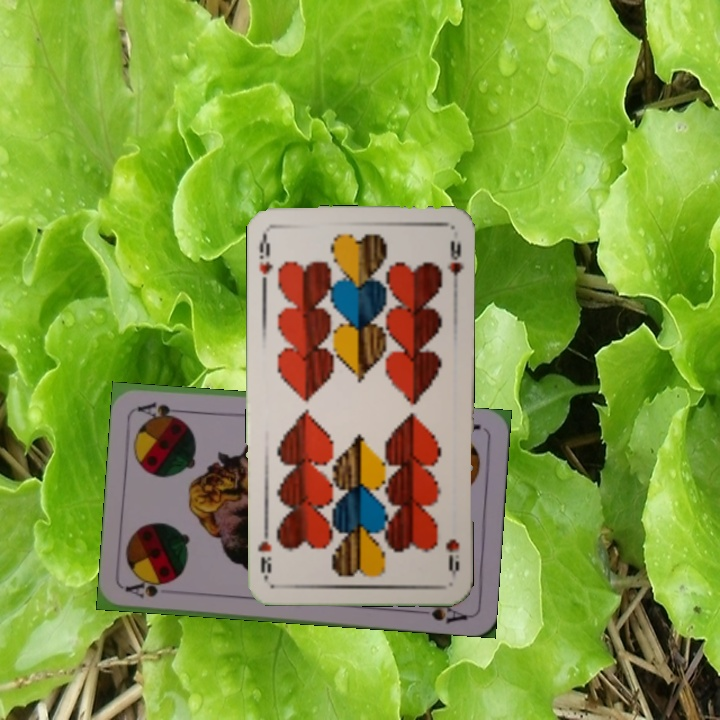H9: (255, 230, 275, 277), (442, 535, 462, 580)
SA: (122, 577, 174, 601)
